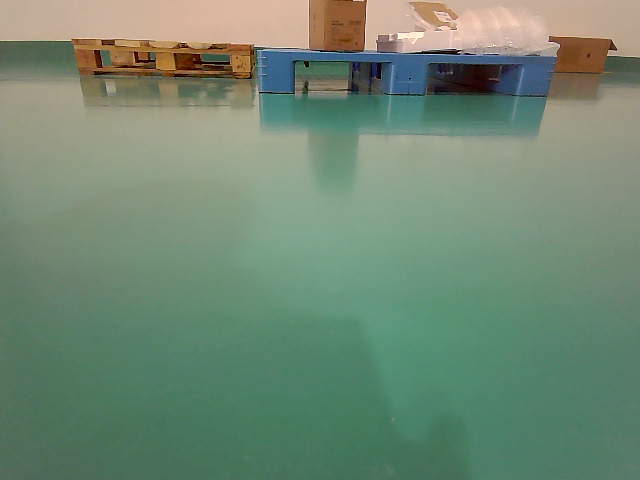block: (387, 53, 428, 97), (256, 51, 297, 94), (514, 57, 554, 98)
front: (256, 48, 558, 97)
hole pallet: (296, 58, 393, 95), (425, 65, 519, 97)
